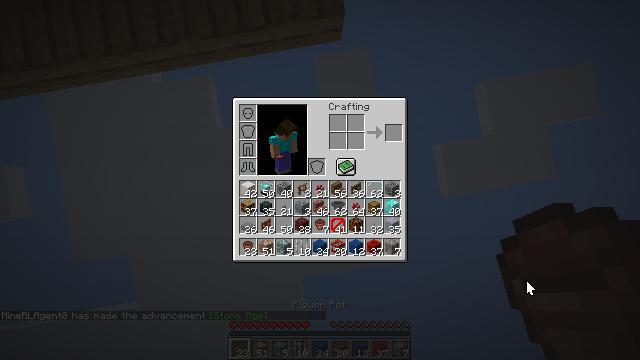cursor: (526, 280, 536, 296)
